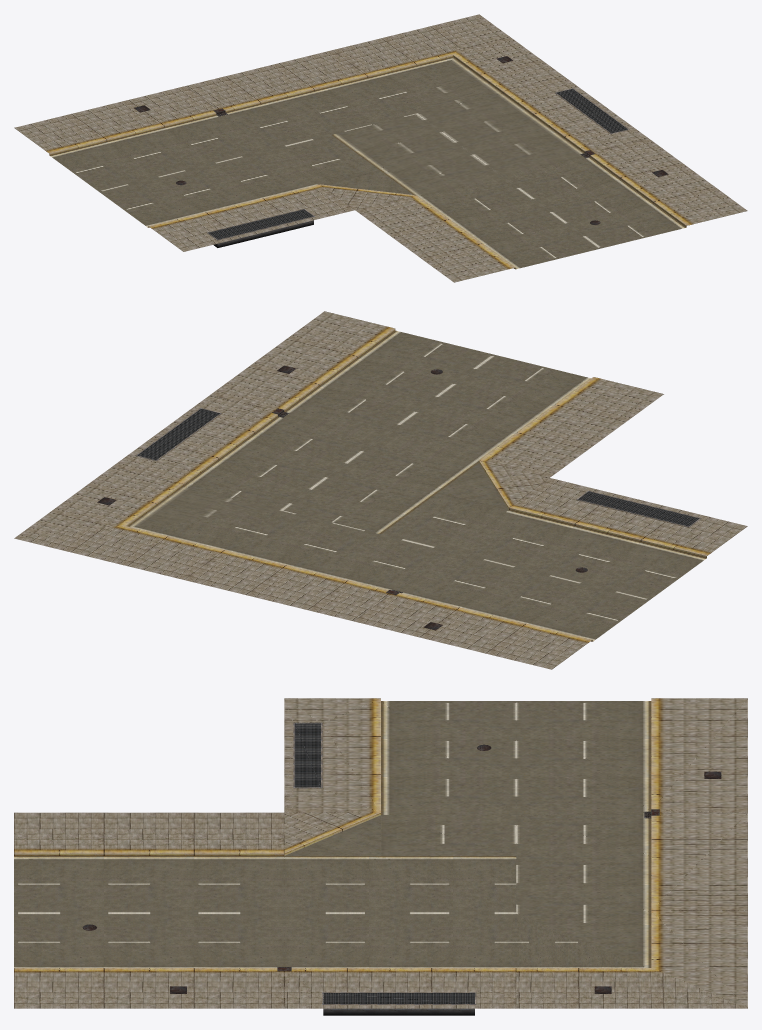
File: Road2_Part_05_B.fbx
3 views of the same model, one above another, from view 1: azimuth 30°, elevation 25°; view 2: azimuth 150°, elevation 25°; view 3: azimuth 270°, elevation 25° (orthographic). The views are drawn at different scales.
Parts seen in each view (by area): view 1: Model_Road2_Part_05_B; view 2: Model_Road2_Part_05_B; view 3: Model_Road2_Part_05_B.
Boxes of the visible parts, bbox=[...] form: Model_Road2_Part_05_B: bbox=[14, 14, 747, 282]; Model_Road2_Part_05_B: bbox=[14, 311, 747, 669]; Model_Road2_Part_05_B: bbox=[14, 698, 747, 1015].
Bounding box in the file's own units: 3800 × 65.51 × 3800.
